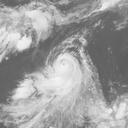cyclone: (40, 53, 91, 99)
